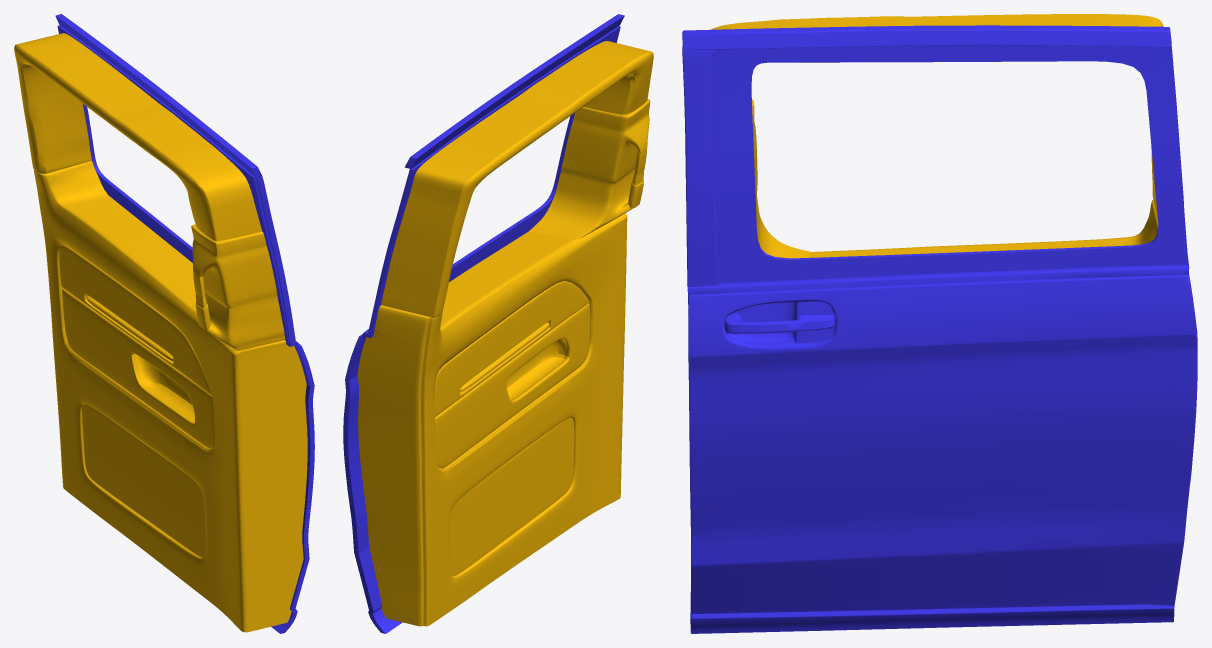
Rendered from door_middle_left.fbx.
3 views of the same model, side by side, from view 1: azimuth 30°, elevation 25°; view 2: azimuth 150°, elevation 25°; view 3: azimuth 270°, elevation 25° (orthographic). The views are drawn at different scales.
Parts seen in each view (by area): view 1: CheMen_N_M_L, CheMen_M_L; view 2: CheMen_N_M_L, CheMen_M_L; view 3: CheMen_M_L, CheMen_N_M_L.
Boxes of the visible parts, x1,y1,x2,y2 form: CheMen_N_M_L: (14, 33, 307, 632); CheMen_M_L: (55, 14, 314, 633); CheMen_N_M_L: (357, 41, 653, 626); CheMen_M_L: (343, 14, 624, 633); CheMen_M_L: (682, 25, 1197, 633); CheMen_N_M_L: (711, 14, 1163, 258).
Size of the model in its own units: 35.15 by 145 by 115.
